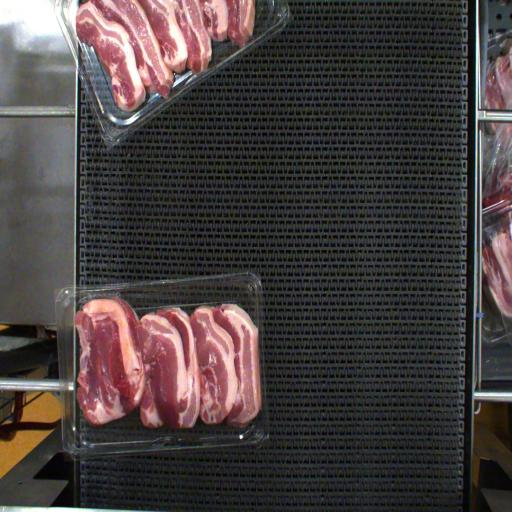packaging-error: (82, 289, 122, 298)
